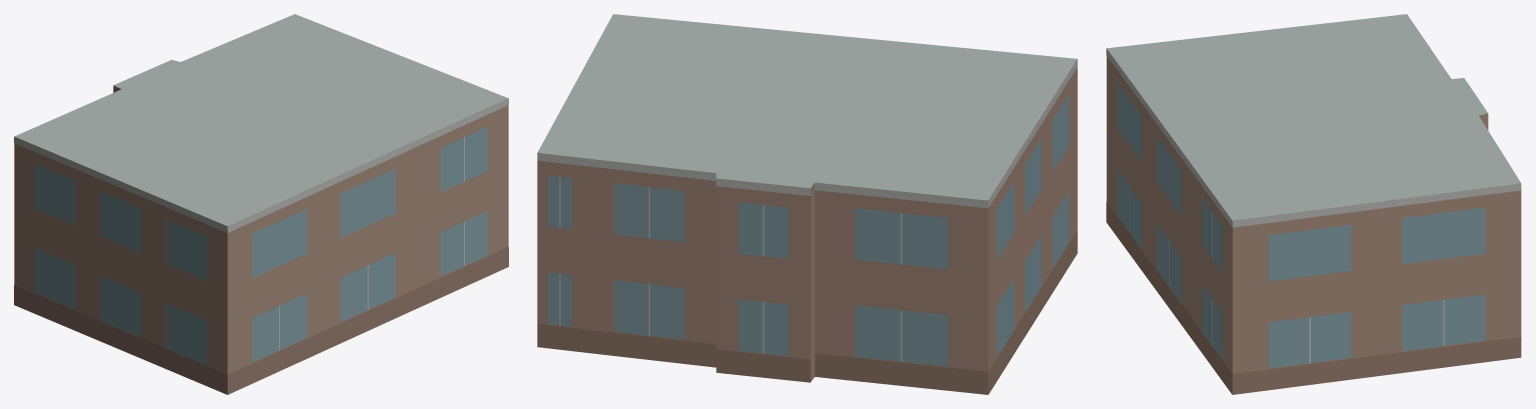
File: survey-upis-32623672.glb
The picture shows the model from 3 angles, left to right: view 1: azimuth 30°, elevation 25°; view 2: azimuth 150°, elevation 25°; view 3: azimuth 270°, elevation 25°; orthographic projection. The views are drawn at different scales.
Parts seen in each view (by area): view 1: survey-upis-32623672.tmp; view 2: survey-upis-32623672.tmp; view 3: survey-upis-32623672.tmp.
Boxes of the visible parts, x1,y1,x2,y2 form: survey-upis-32623672.tmp: (14,14,508,394); survey-upis-32623672.tmp: (537,14,1077,394); survey-upis-32623672.tmp: (1106,14,1521,394).
Bounding box in the file's own units: 15.54 × 6.1 × 13.18.
